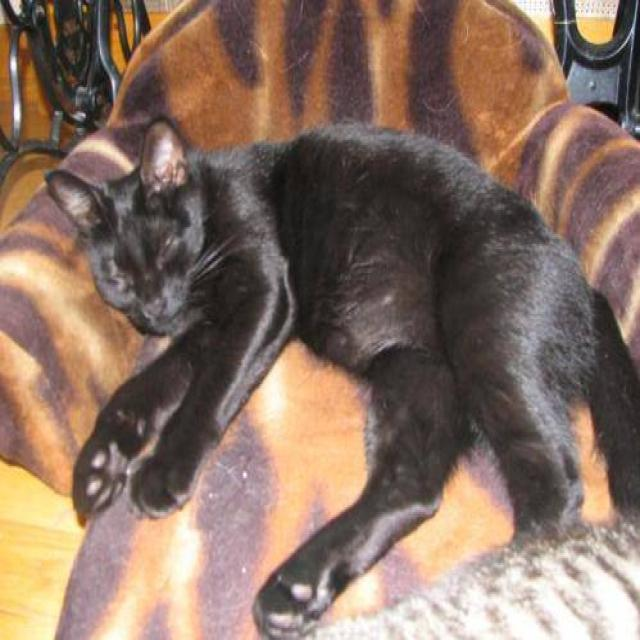cat: (45, 113, 639, 638)
